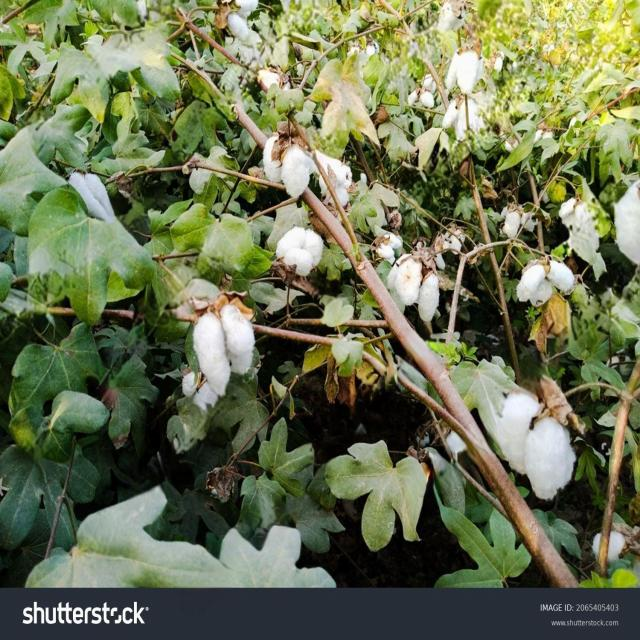Leaf: (173, 279, 267, 402), (250, 123, 322, 211), (377, 245, 447, 332), (269, 219, 335, 288), (514, 260, 579, 315), (438, 33, 485, 105)
